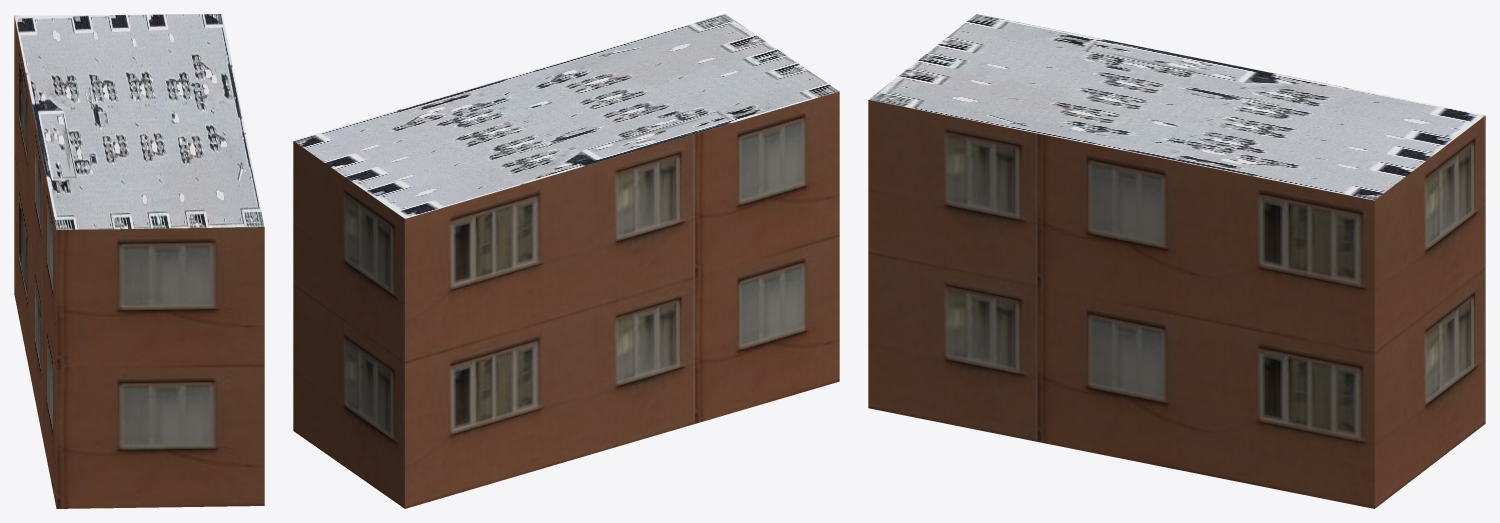
Rendered from ResTex__806.fbx.
3 views of the same model, side by side, from view 1: azimuth 30°, elevation 25°; view 2: azimuth 150°, elevation 25°; view 3: azimuth 270°, elevation 25° (orthographic). The views are drawn at different scales.
Parts seen in each view (by area): view 1: CityEngineMaterial_20_m, CityEngineMaterial_4_m; view 2: CityEngineMaterial_20_m, CityEngineMaterial_4_m; view 3: CityEngineMaterial_20_m, CityEngineMaterial_4_m.
Part boxes in pixels (bbox=[...]): CityEngineMaterial_20_m: bbox=[14, 16, 264, 508]; CityEngineMaterial_4_m: bbox=[14, 14, 264, 229]; CityEngineMaterial_20_m: bbox=[293, 91, 839, 508]; CityEngineMaterial_4_m: bbox=[293, 14, 839, 218]; CityEngineMaterial_20_m: bbox=[868, 100, 1485, 508]; CityEngineMaterial_4_m: bbox=[869, 14, 1484, 200].
Size of the model in its own units: 7.78 by 6 by 10.88.
Materials: 2 (2 with a texture image).
